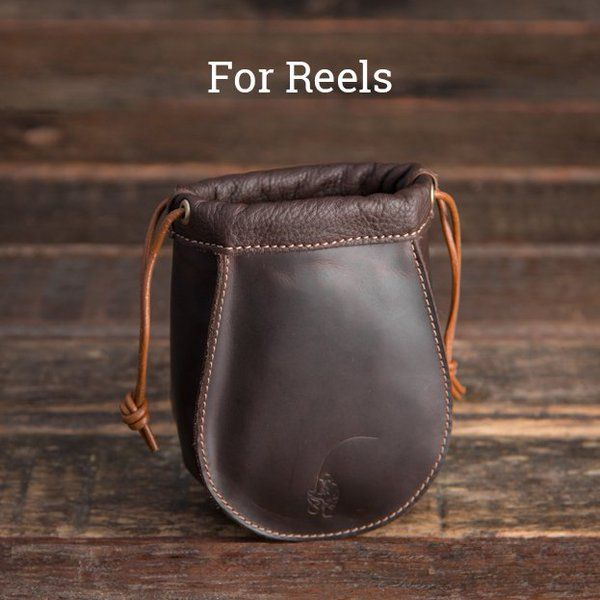cuero: (121, 162, 466, 544)
